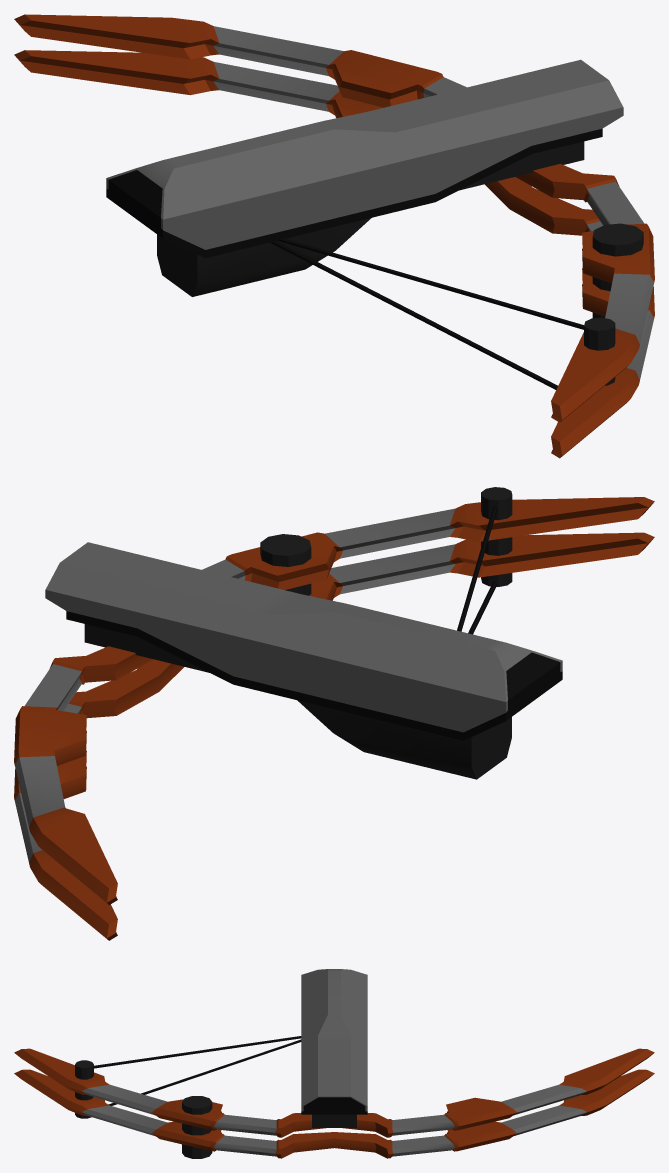
The model's file is Body_Crossbow_1.obj.
3 views of the same model, one above another, from view 1: azimuth 30°, elevation 25°; view 2: azimuth 150°, elevation 25°; view 3: azimuth 270°, elevation 25° (orthographic). The views are drawn at different scales.
Visible parts, largest first — view 1: Body_Crossbow_1_Cube.029; view 2: Body_Crossbow_1_Cube.029; view 3: Body_Crossbow_1_Cube.029.
Part boxes in pixels (x1=…): Body_Crossbow_1_Cube.029: x1=14, y1=14, x2=654, y2=458; Body_Crossbow_1_Cube.029: x1=14, y1=487, x2=654, y2=940; Body_Crossbow_1_Cube.029: x1=14, y1=969, x2=654, y2=1158.
Size of the model in its own units: 0.9312 by 0.294 by 1.92.
